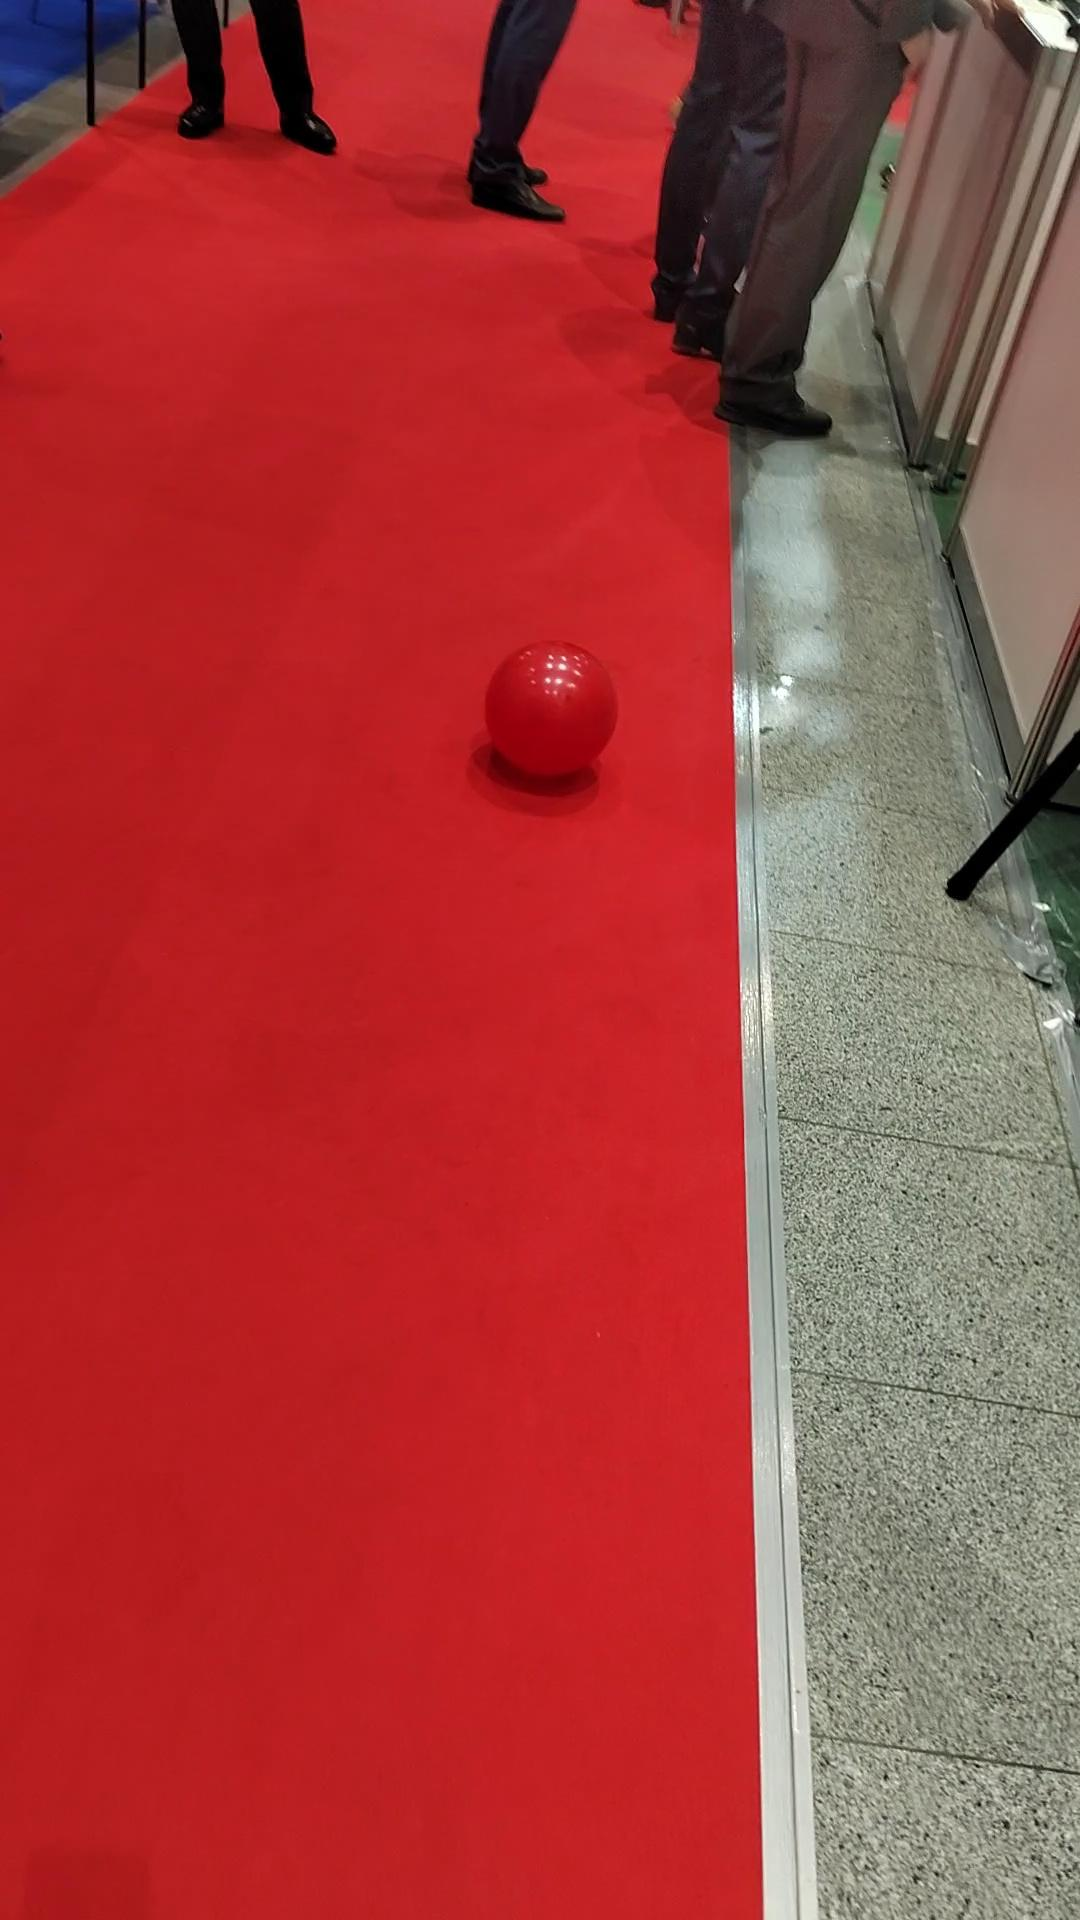red: (484, 641, 620, 779)
